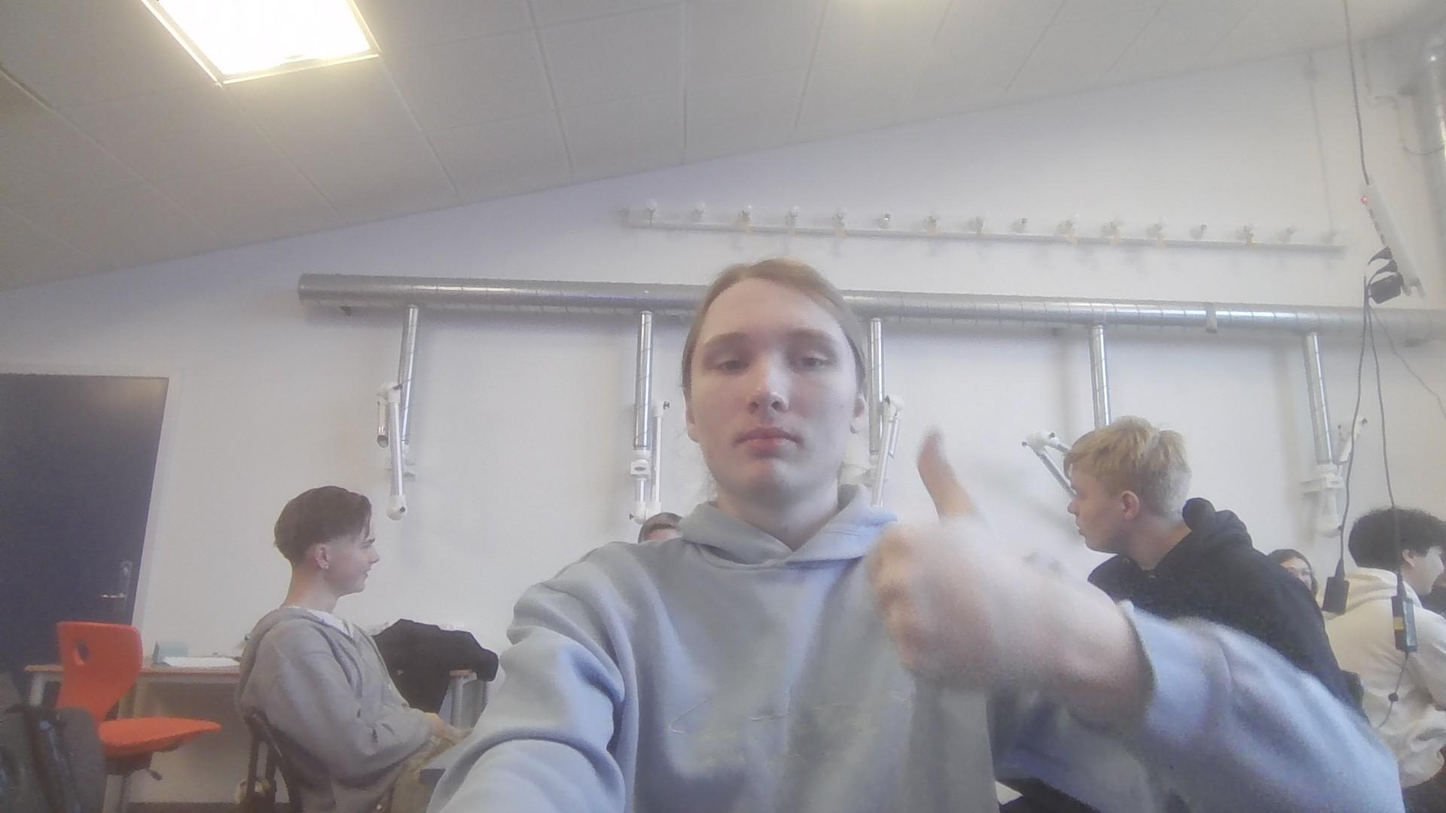thumbs up: (876, 418, 1036, 697)
